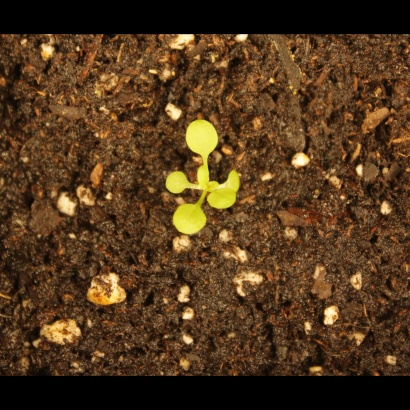leaf: (180, 116, 225, 157), (169, 202, 213, 240), (161, 167, 193, 197), (208, 186, 237, 212), (192, 166, 216, 190), (222, 169, 245, 192)
